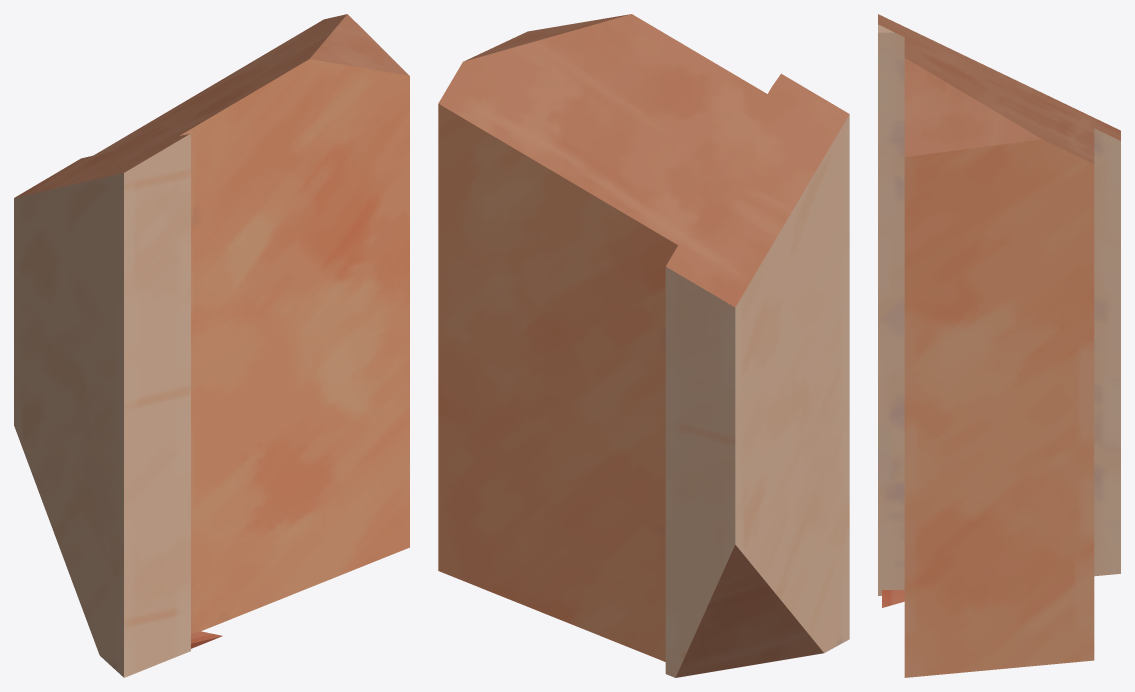
The model's file is wall2_upper_door_s10.fbx.
3 views of the same model, side by side, from view 1: azimuth 30°, elevation 25°; view 2: azimuth 150°, elevation 25°; view 3: azimuth 270°, elevation 25° (orthographic). The views are drawn at different scales.
Parts seen in each view (by area): view 1: wall2_upper_door_s10; view 2: wall2_upper_door_s10; view 3: wall2_upper_door_s10.
Boxes of the visible parts, bbox=[...] form: wall2_upper_door_s10: bbox=[14, 14, 409, 677]; wall2_upper_door_s10: bbox=[438, 14, 849, 677]; wall2_upper_door_s10: bbox=[878, 14, 1120, 677].
Size of the model in its own units: 2 by 3.61 by 1.28.
